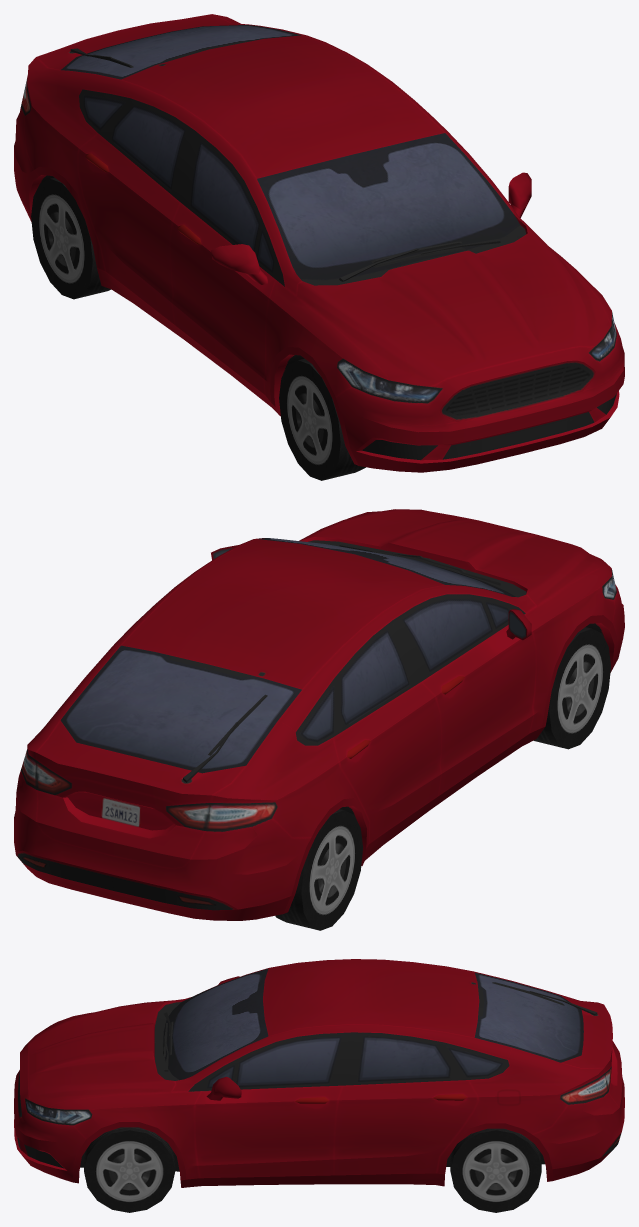
File: car.glb
3 views of the same model, one above another, from view 1: azimuth 30°, elevation 25°; view 2: azimuth 150°, elevation 25°; view 3: azimuth 270°, elevation 25° (orthographic). The views are drawn at different scales.
Parts seen in each view (by area): view 1: Object_3, Object_2; view 2: Object_3, Object_2; view 3: Object_3, Object_2.
Boxes of the visible parts, <box> form: Object_3: <box>14,14,624,472</box>; Object_2: <box>31,177,365,480</box>; Object_3: <box>14,509,624,920</box>; Object_2: <box>275,627,610,930</box>; Object_3: <box>14,959,624,1187</box>; Object_2: <box>84,1127,541,1212</box>.
Bounding box in the file's own units: 85.68 × 61.51 × 194.
Materials: 2 (2 with a texture image).
